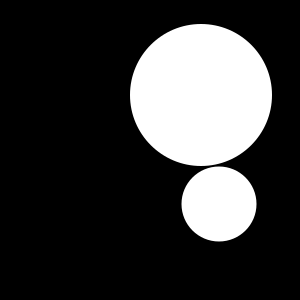rectangle: (130, 24, 272, 166), (182, 167, 256, 242)
